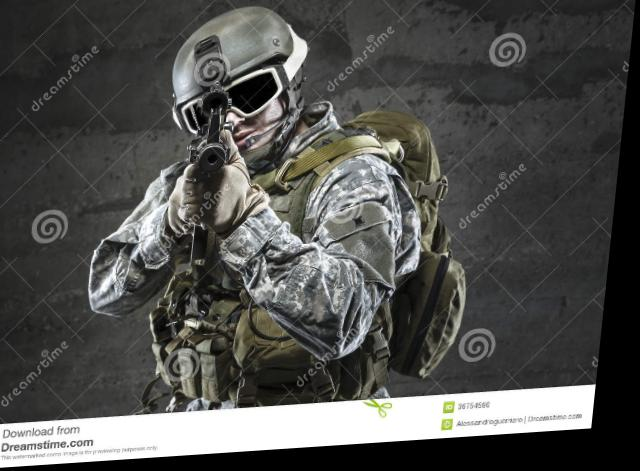other: (86, 1, 490, 410)
